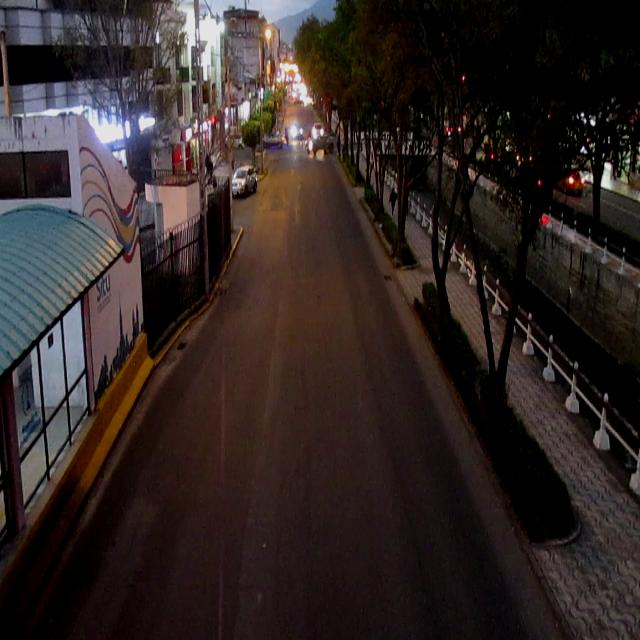SUV: (232, 166, 260, 198)
